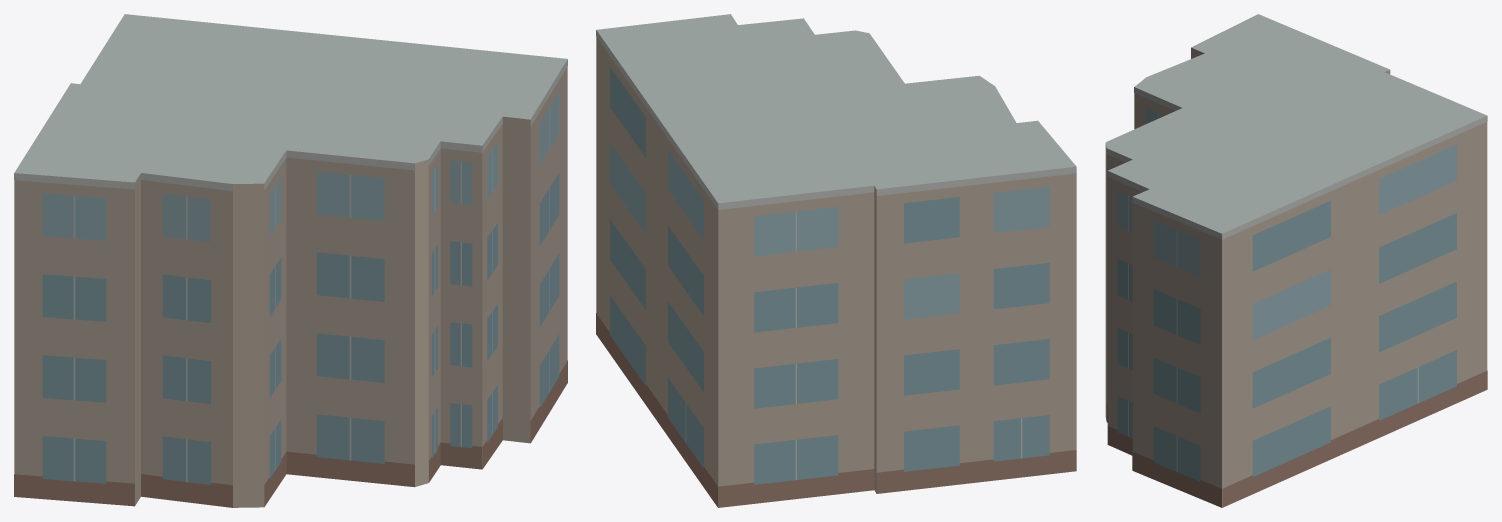
File: survey-upis-32488567.glb
3 renders of one model, left to right at view 1: azimuth 30°, elevation 25°; view 2: azimuth 150°, elevation 25°; view 3: azimuth 270°, elevation 25°, orthographic. The views are drawn at different scales.
Parts seen in each view (by area): view 1: survey-upis-32488567.tmp; view 2: survey-upis-32488567.tmp; view 3: survey-upis-32488567.tmp.
Part boxes in pixels (x1,y1,x2,y2): survey-upis-32488567.tmp: [14, 14, 567, 507]; survey-upis-32488567.tmp: [596, 14, 1076, 507]; survey-upis-32488567.tmp: [1105, 14, 1487, 507].
Bounding box in the file's own units: 19.28 × 11.2 × 14.15.
